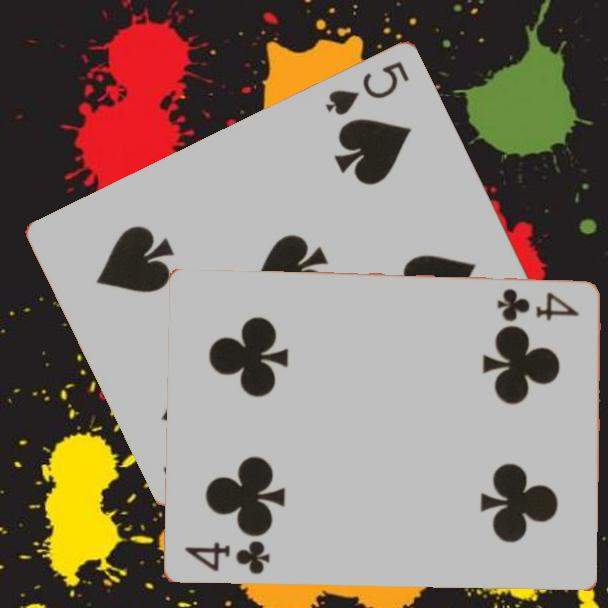c04: (180, 537, 272, 578), (493, 285, 581, 323)
s05: (321, 58, 412, 119)
